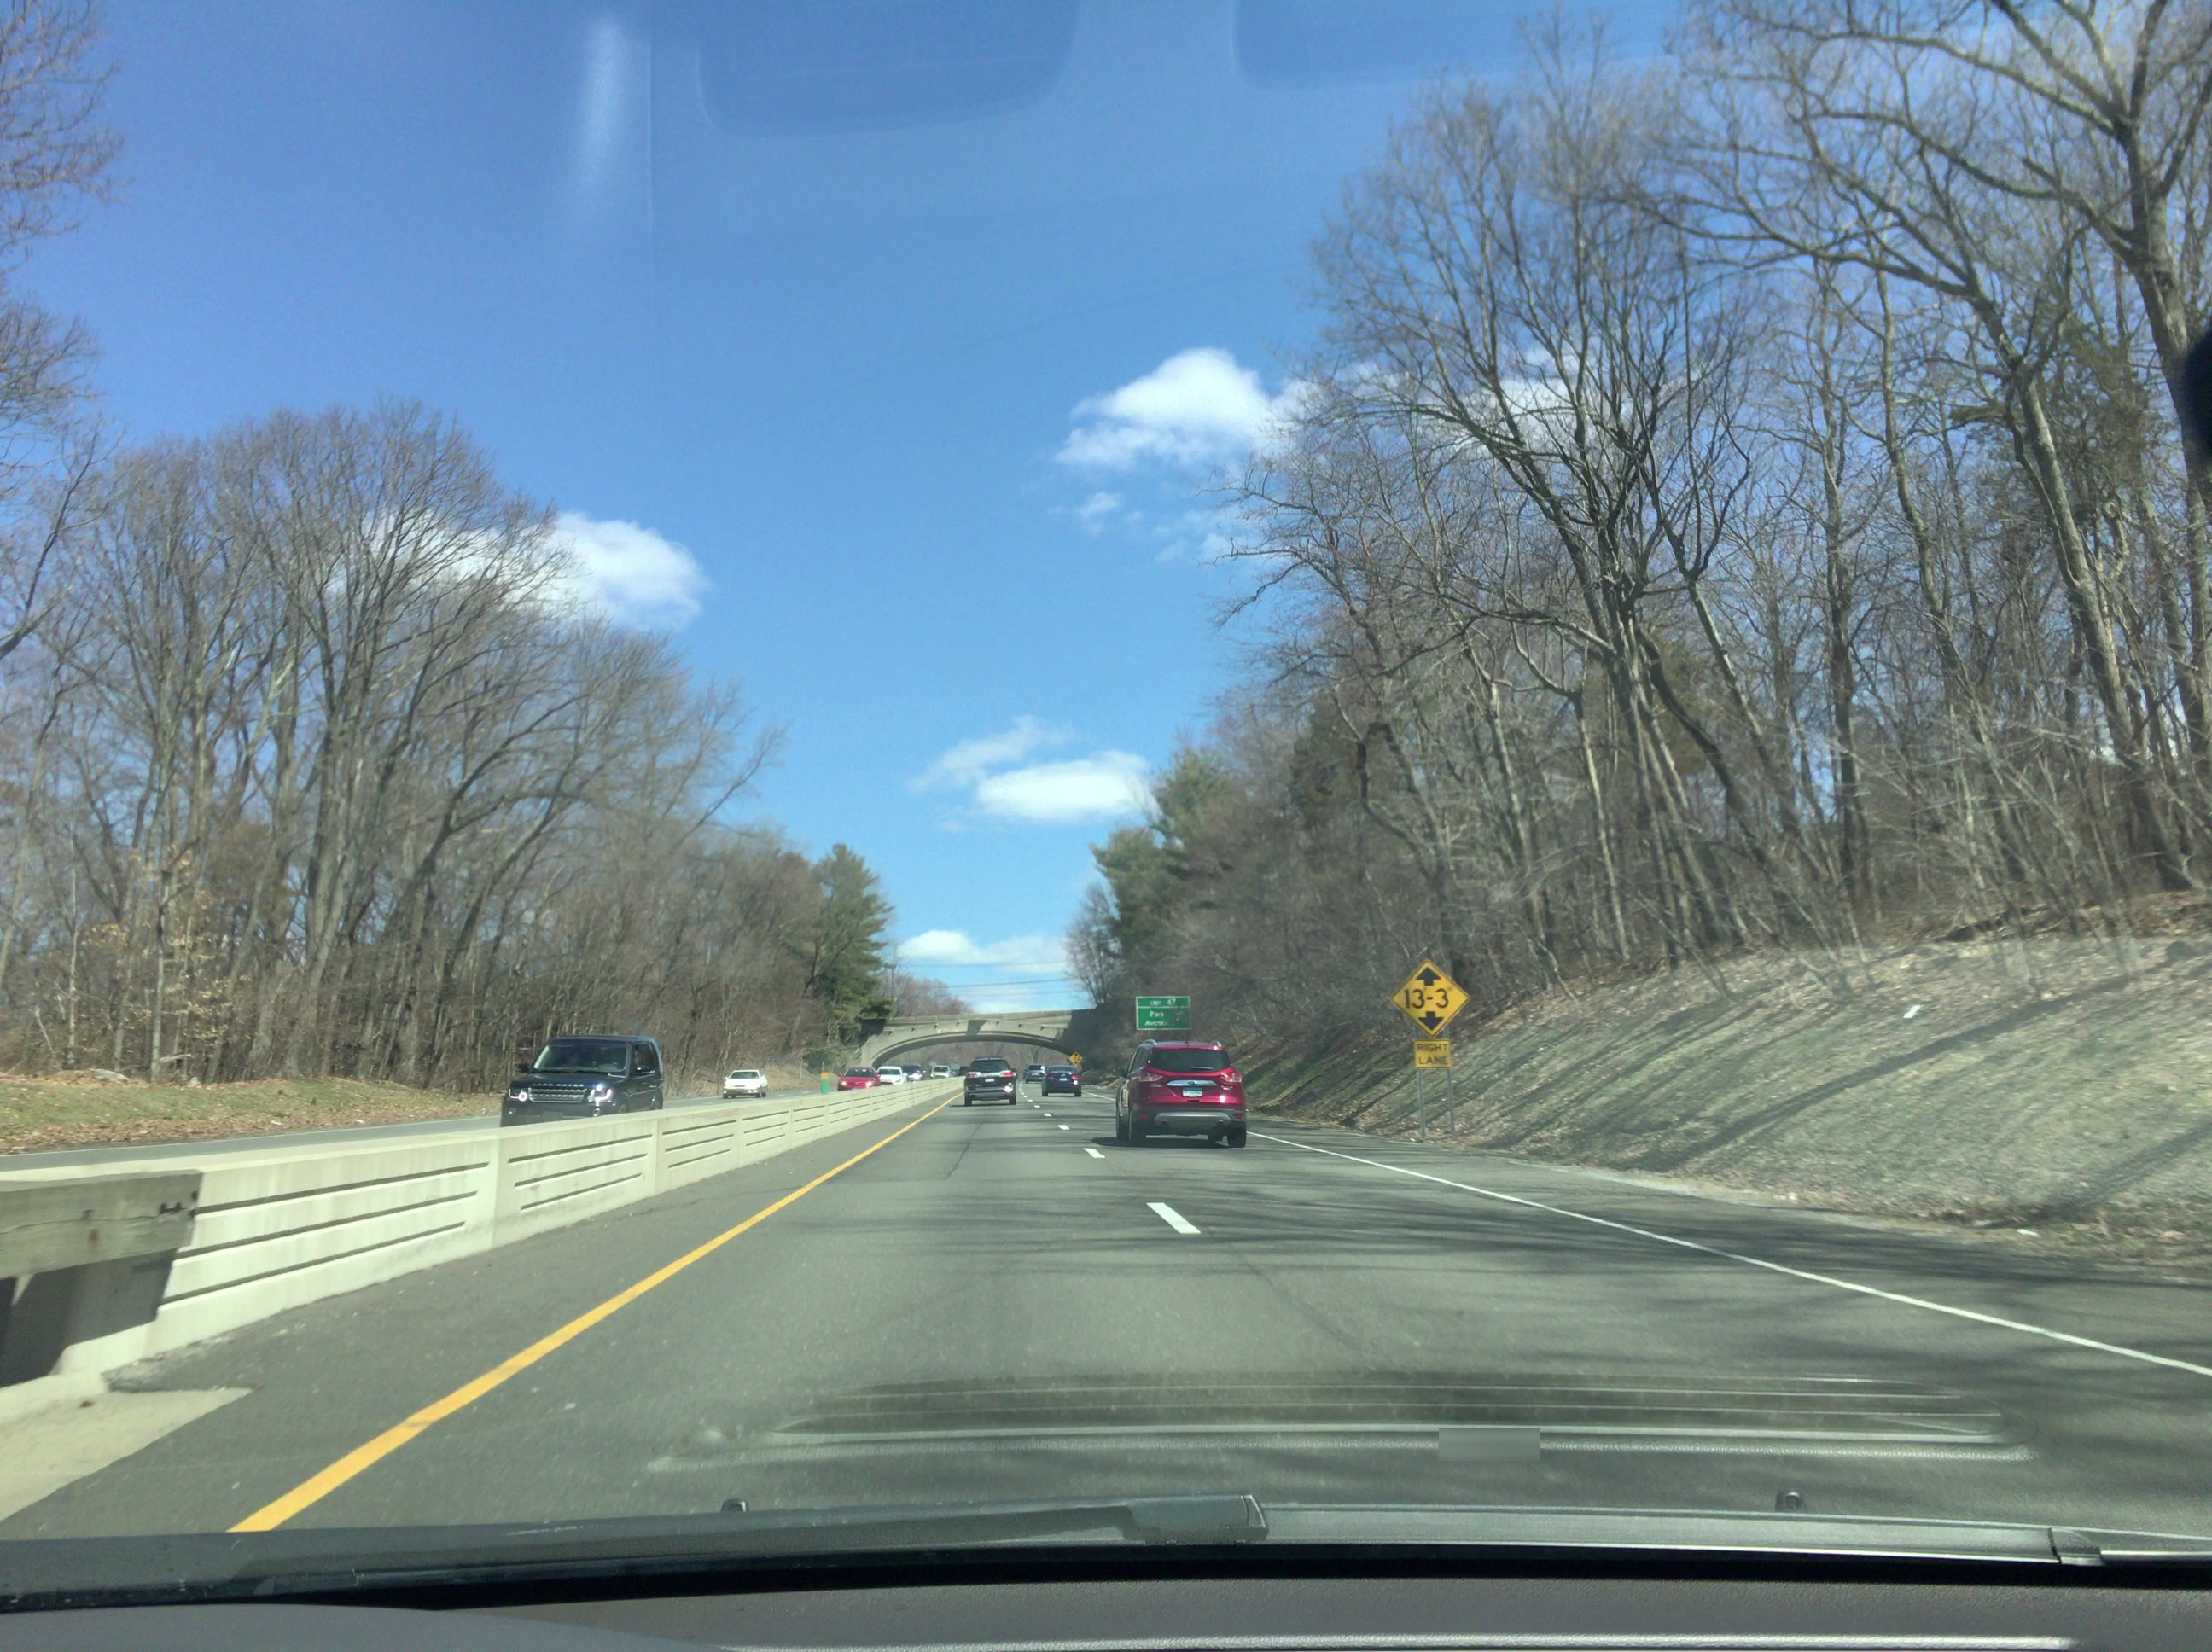low-clearance-sign: (1390, 958, 1471, 1038)
